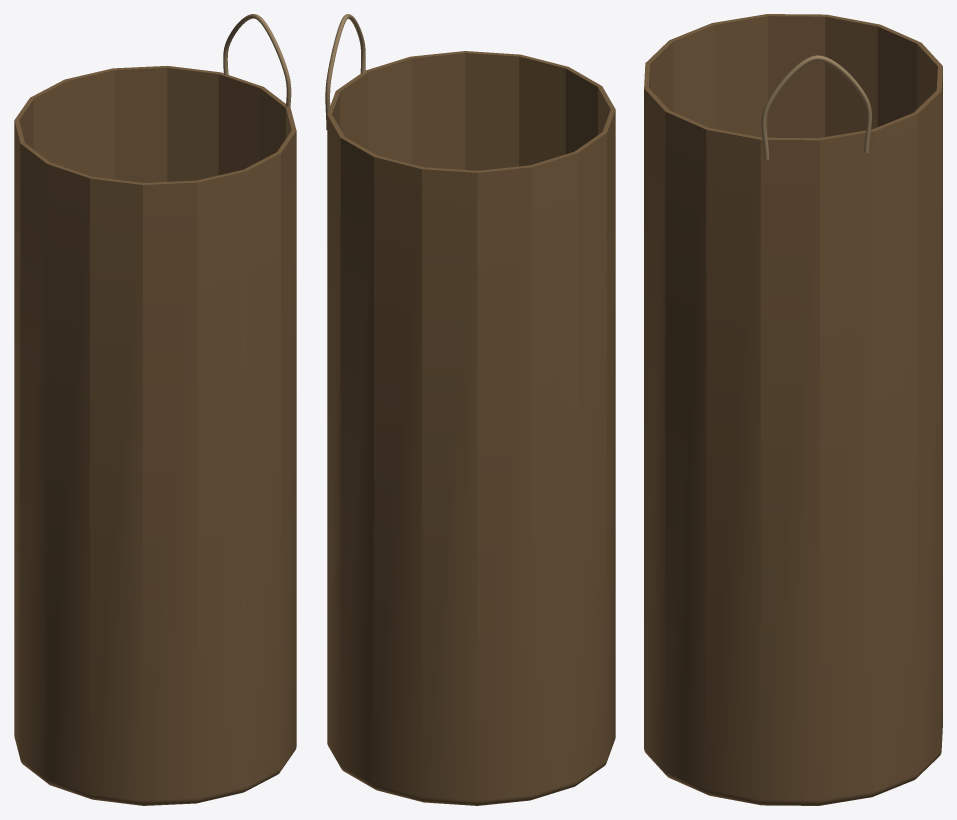
3 views of the same model, side by side, from view 1: azimuth 30°, elevation 25°; view 2: azimuth 150°, elevation 25°; view 3: azimuth 270°, elevation 25° (orthographic). The views are drawn at different scales.
Parts seen in each view (by area): view 1: vessel, loop; view 2: vessel, loop; view 3: vessel, loop.
Part boxes in pixels (x1,y1,x2,y2): vessel: [14, 65, 296, 805]; loop: [223, 14, 291, 106]; vessel: [327, 51, 615, 805]; loop: [325, 14, 365, 129]; vessel: [644, 14, 942, 805]; loop: [761, 55, 871, 159].
Size of the model in its own units: 0.1809 by 0.4985 by 0.1802.
